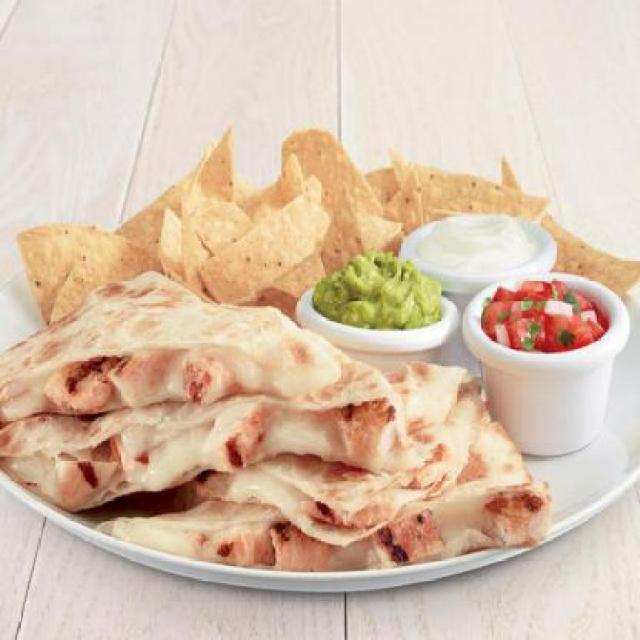guacamole: (314, 246, 449, 346)
nachos: (6, 117, 640, 312)
